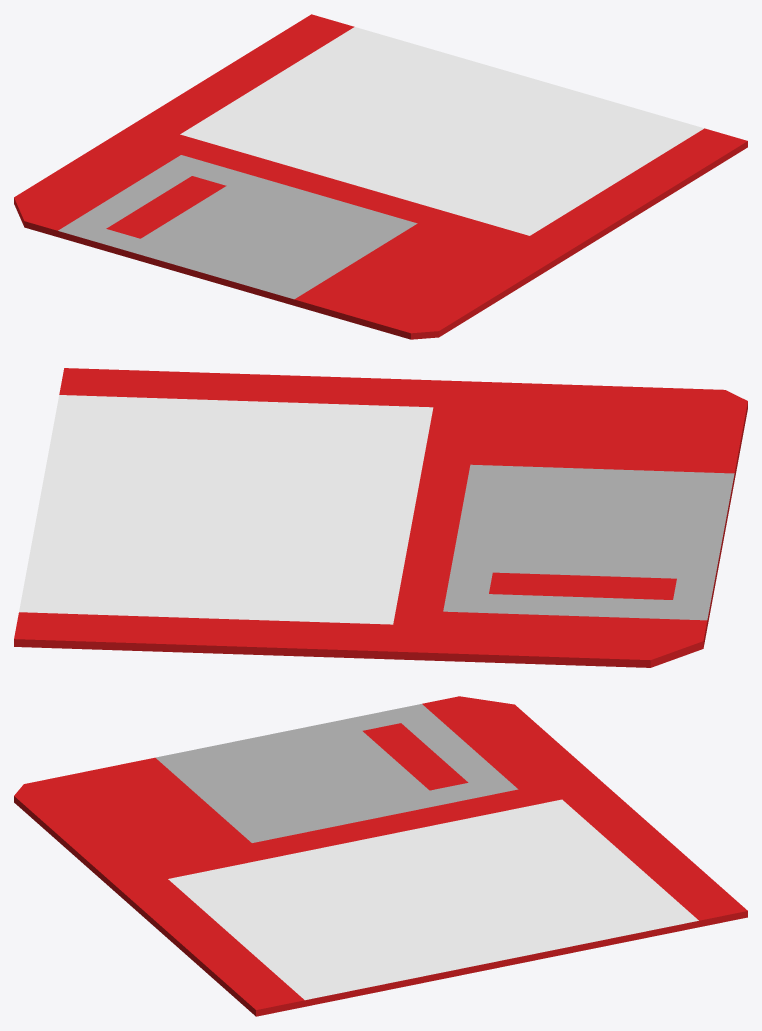
Rendered from Floppy_002.fbx.
3 views of the same model, one above another, from view 1: azimuth 30°, elevation 25°; view 2: azimuth 150°, elevation 25°; view 3: azimuth 270°, elevation 25° (orthographic). The views are drawn at different scales.
Parts seen in each view (by area): view 1: Floppy.002; view 2: Floppy.002; view 3: Floppy.002.
Boxes of the visible parts, <box> form: Floppy.002: <box>14,14,747,339</box>; Floppy.002: <box>14,368,747,667</box>; Floppy.002: <box>14,696,747,1016</box>.
Bounding box in the file's own units: 25.49 × 0.25 × 25.19.
